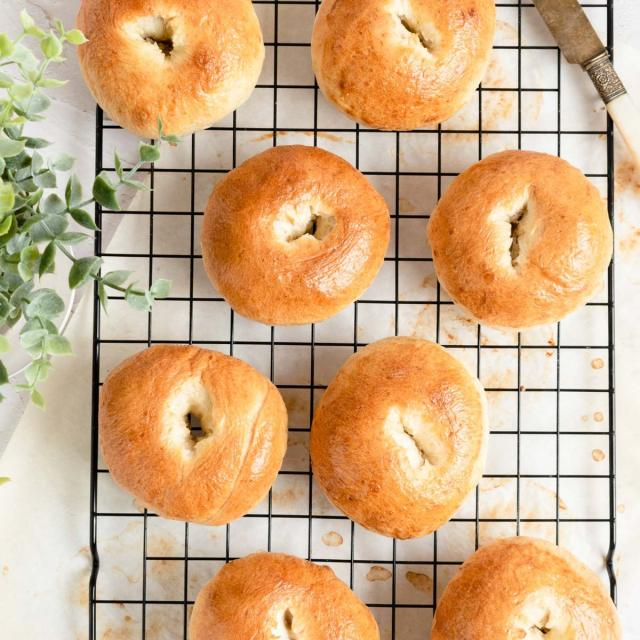Bagel: (310, 336, 489, 539), (99, 345, 288, 526), (201, 146, 390, 325), (428, 150, 612, 329), (76, 0, 265, 139), (311, 0, 496, 130), (431, 536, 620, 640), (189, 552, 380, 640), (526, 592, 540, 602)
